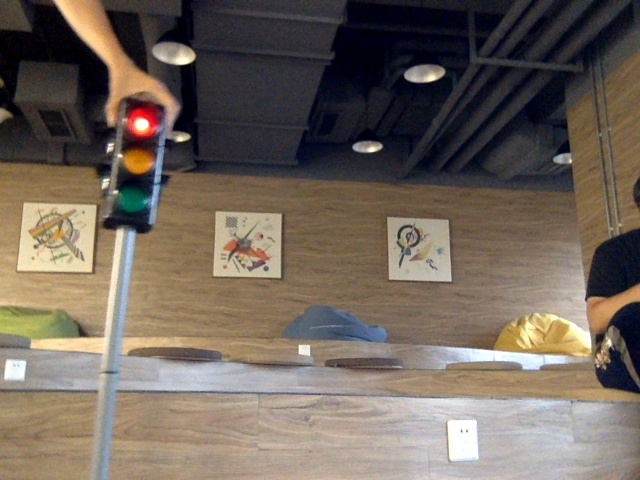red: (118, 108, 155, 218)
